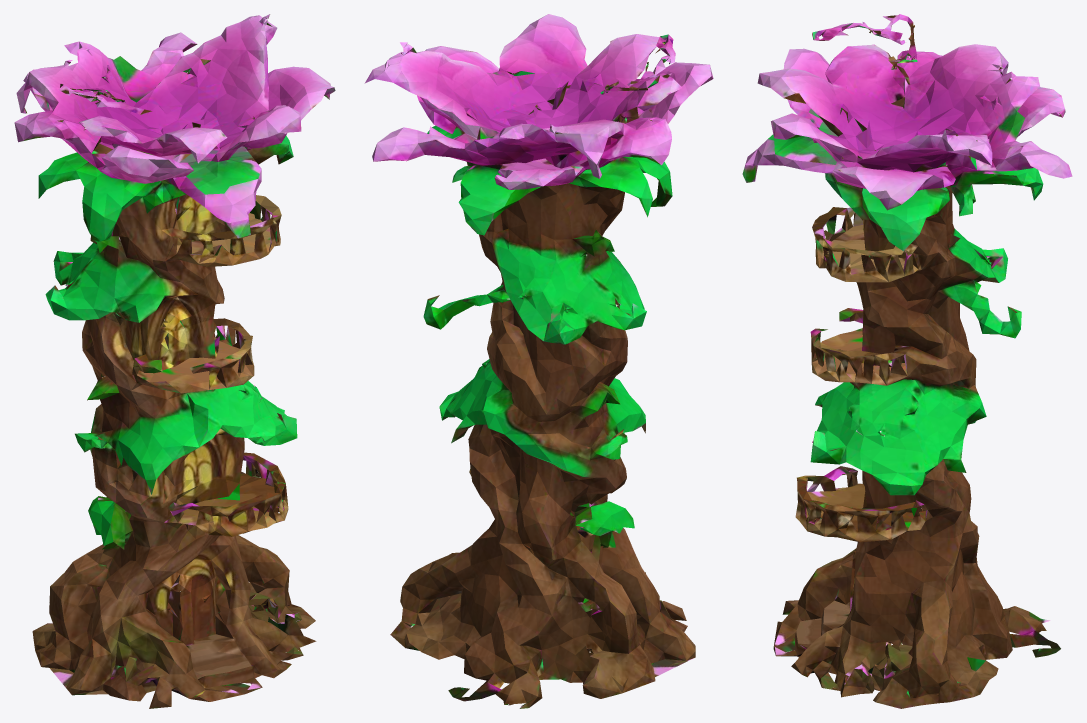
Rendered from fairy_treetower_1117.glb.
3 views of the same model, side by side, from view 1: azimuth 30°, elevation 25°; view 2: azimuth 150°, elevation 25°; view 3: azimuth 270°, elevation 25° (orthographic). The views are drawn at different scales.
Visible parts, largest first — view 1: world; view 2: world; view 3: world.
Boxes of the visible parts, x1=… form: world: x1=14, y1=14, x2=335, y2=708; world: x1=364, y1=14, x2=713, y2=708; world: x1=742, y1=14, x2=1072, y2=708.
Size of the model in its own units: 0.5082 by 1 by 0.5165.
1 material, 1 textured.
